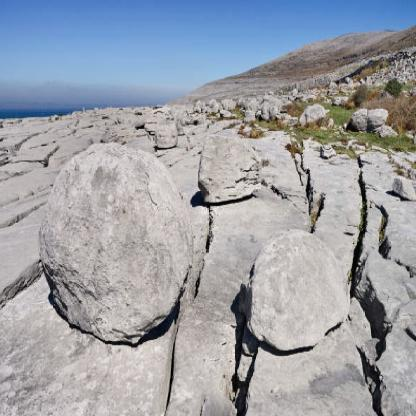Sedimentary_Limestone: (39, 138, 189, 338), (242, 232, 366, 357), (200, 121, 268, 206), (300, 98, 327, 134), (352, 108, 370, 133)
